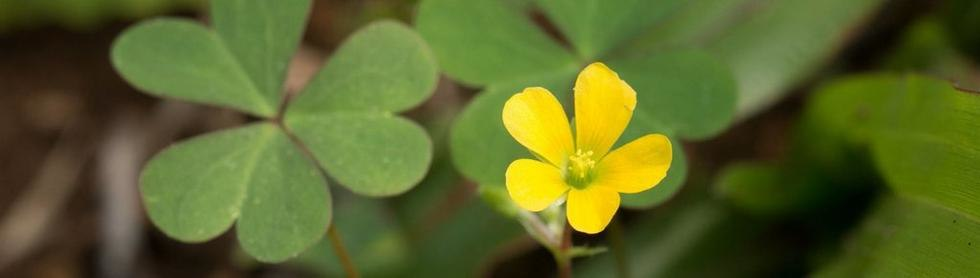oxalis: (96, 27, 937, 262)
